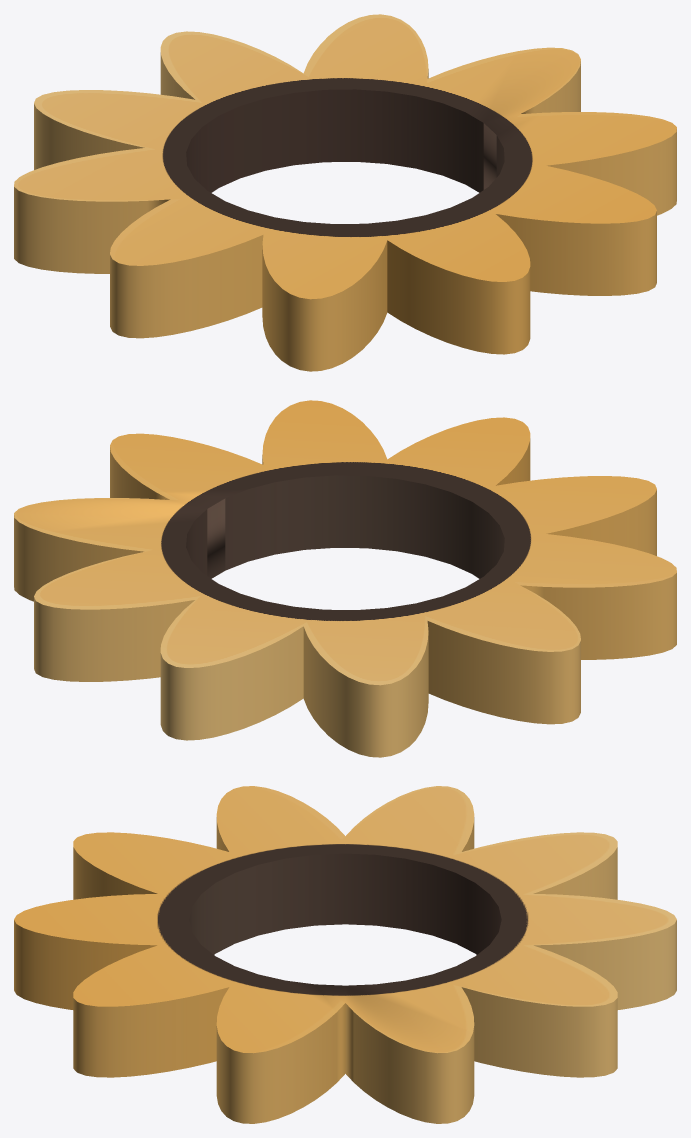
The model's file is Sunflower.FBX.
3 views of the same model, one above another, from view 1: azimuth 30°, elevation 25°; view 2: azimuth 150°, elevation 25°; view 3: azimuth 270°, elevation 25° (orthographic). The views are drawn at different scales.
Parts seen in each view (by area): view 1: Sunflower; view 2: Sunflower; view 3: Sunflower.
Part boxes in pixels (x1,y1,x2,y2): Sunflower: [14, 14, 676, 371]; Sunflower: [14, 400, 676, 757]; Sunflower: [14, 786, 676, 1123].
Bounding box in the file's own units: 56.65 × 7 × 59.41.
Materials: 1 (1 with a texture image).
